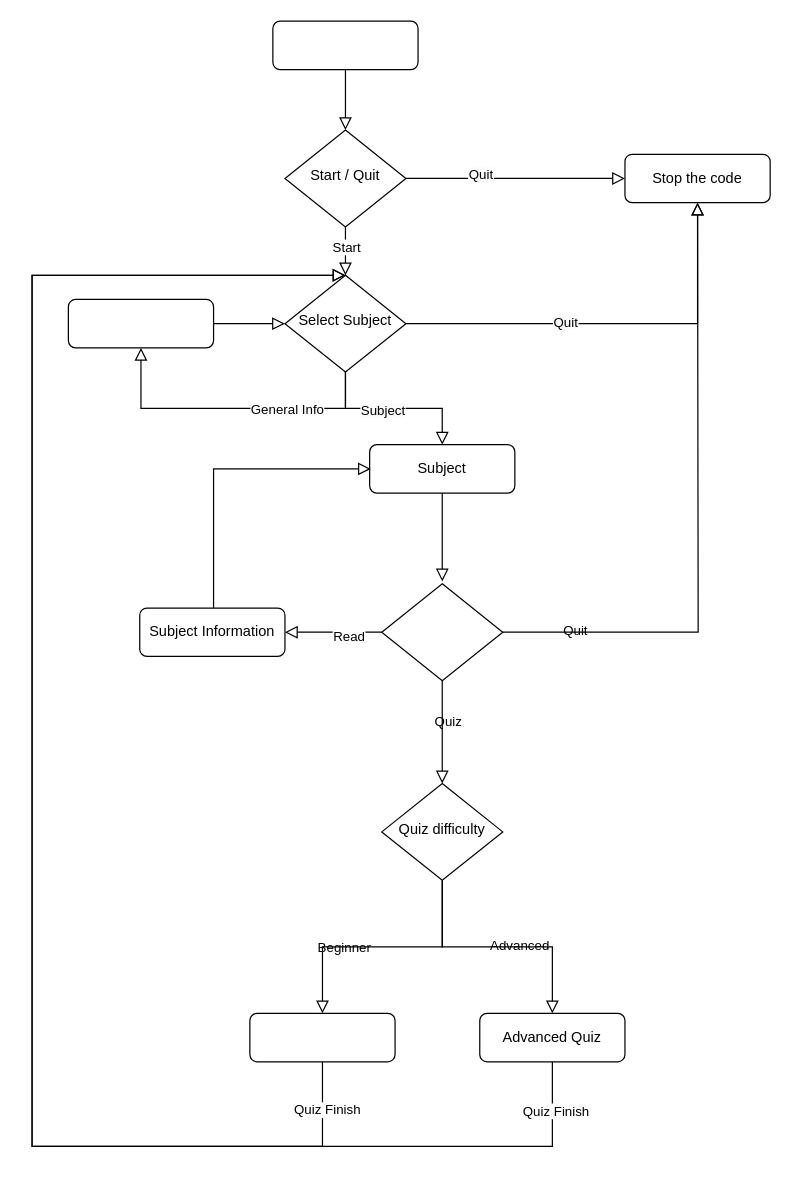
Image size: 791x1180. Some labels were removed from this diagram. Here are the shapes that lost their labels. From the top down, the centre of each, then its label:
At (345,45): "Run the code".
At (140,323): "General Information".
At (442,632): "Read Information / start quiz".
At (322,1037): "Beginner Quiz".
